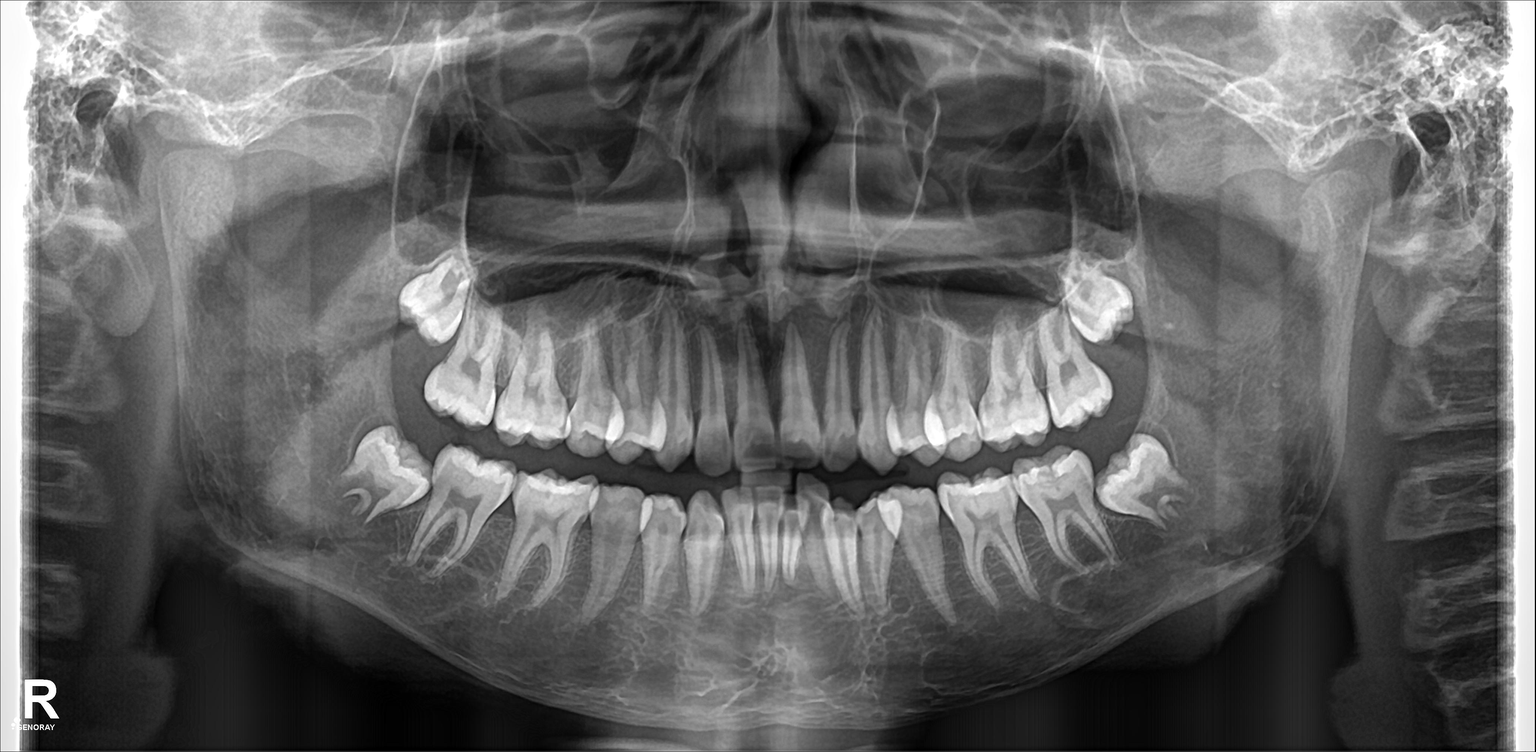Impacted Third Molar: (341, 434, 428, 512), (1112, 449, 1195, 517), (397, 266, 466, 346), (1065, 275, 1131, 332)
